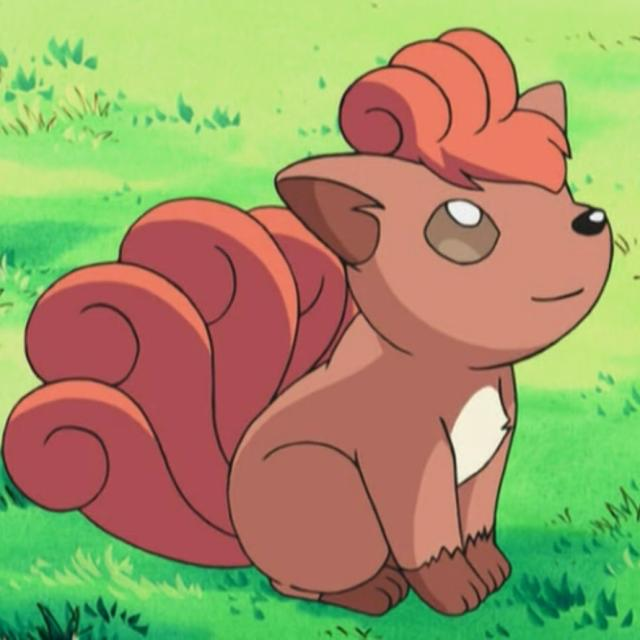Vulpix: (202, 24, 608, 598)
